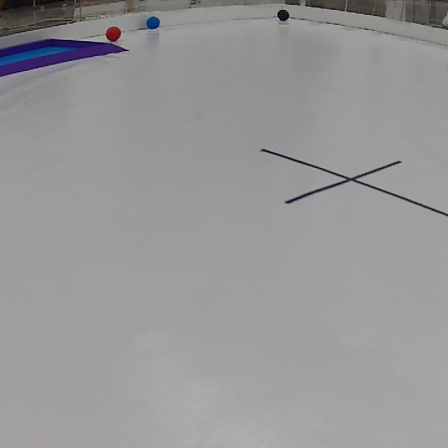black: (276, 8, 292, 22)
blue: (145, 17, 163, 31)
blue_aim: (0, 37, 129, 75)
red: (102, 24, 125, 42)
